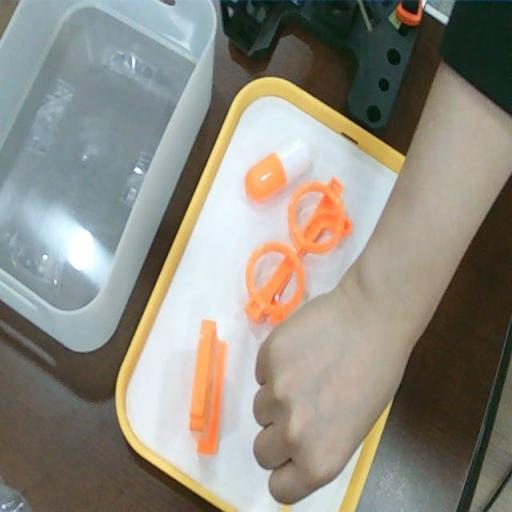hospital: (252, 284, 417, 506)
